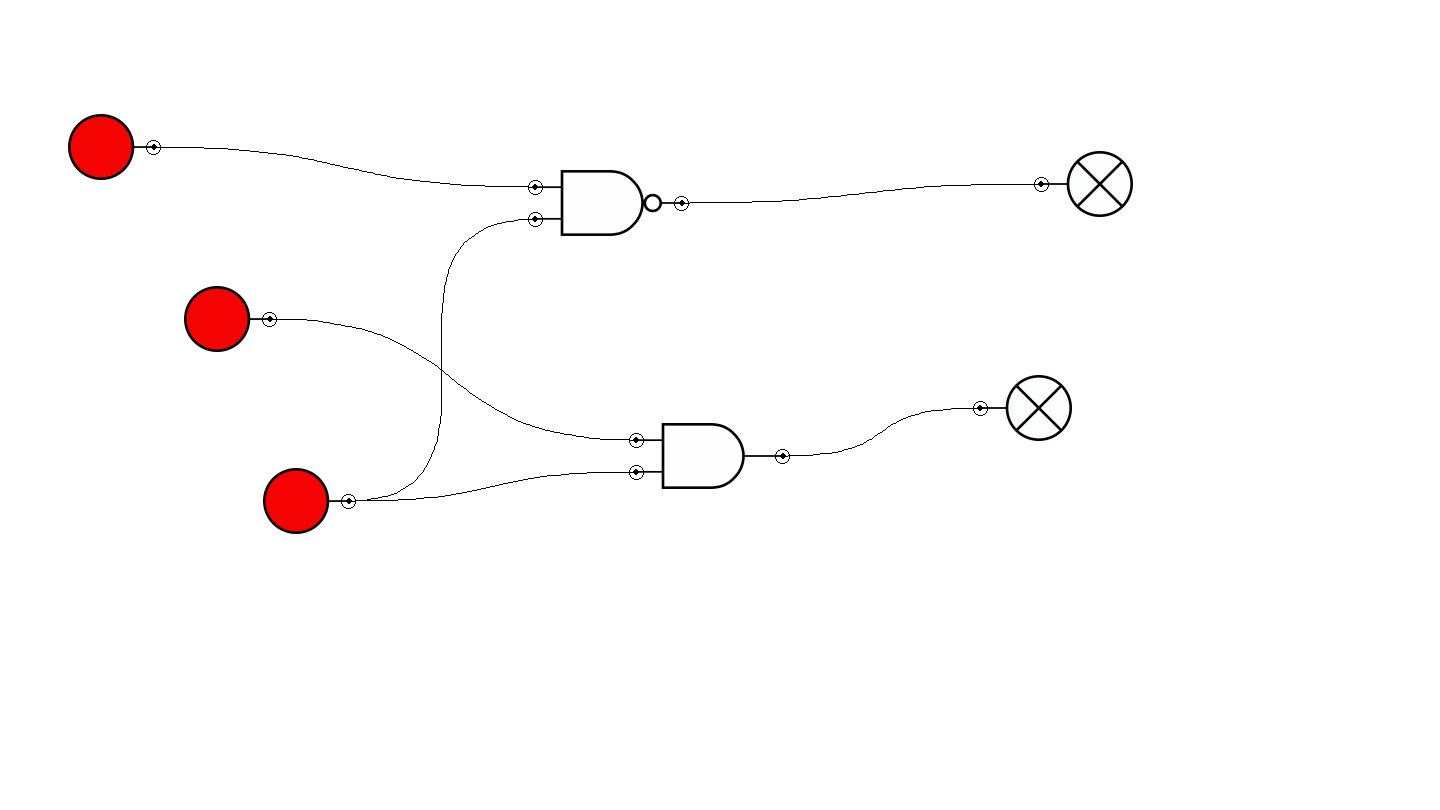and: (629, 423, 790, 489)
bulb: (973, 375, 1072, 441), (1034, 151, 1133, 217)
nand: (528, 170, 689, 236)
switch_False: (263, 468, 356, 534), (184, 286, 277, 352), (68, 114, 161, 180)
